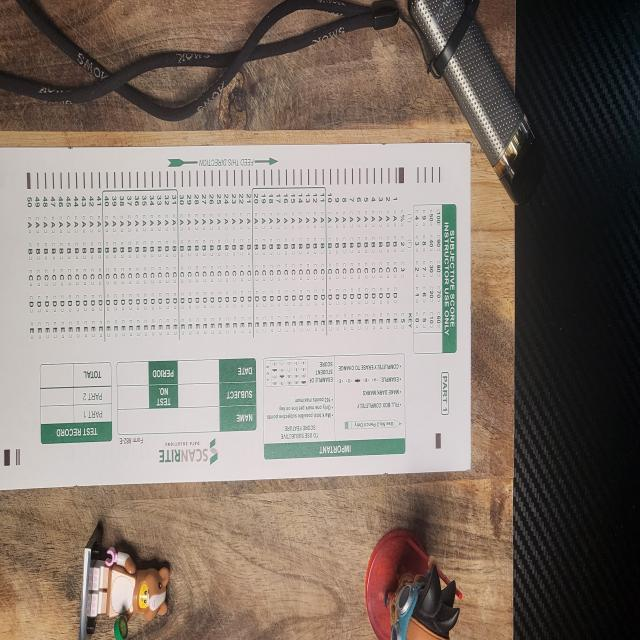scantron: (0, 142, 470, 490)
